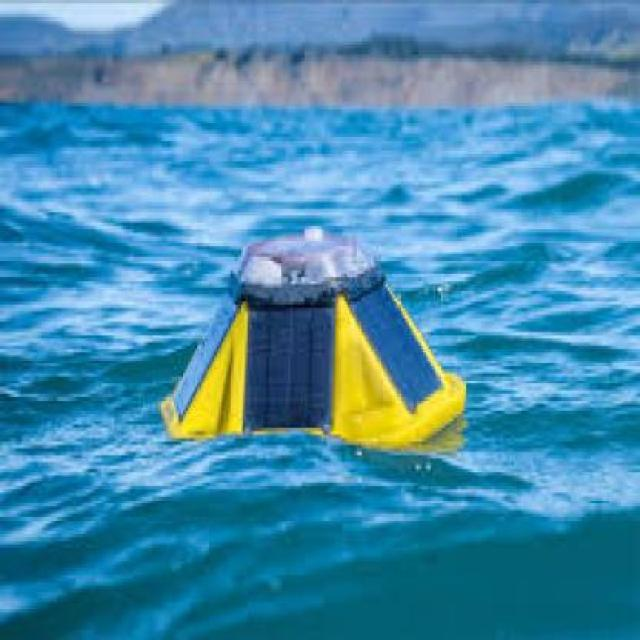buoy: (150, 218, 475, 467)
